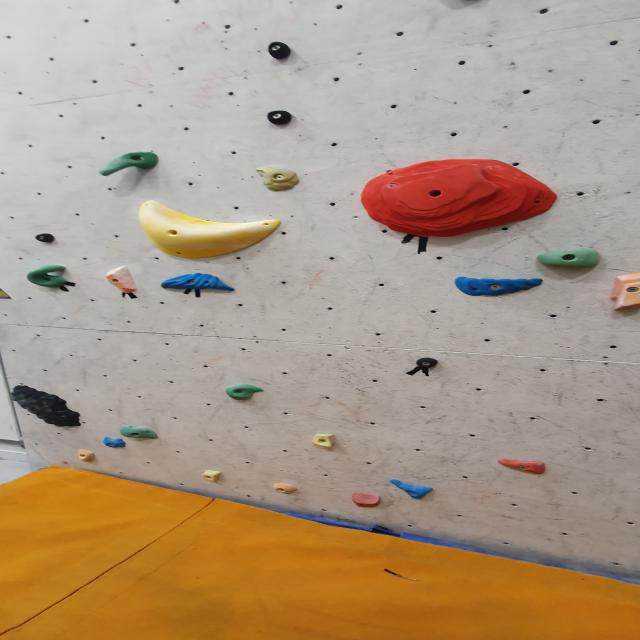Crimp: (356, 160, 565, 240), (452, 276, 548, 296), (158, 272, 238, 292), (253, 165, 304, 193), (389, 480, 435, 500), (494, 458, 550, 474), (194, 465, 232, 487), (272, 483, 300, 496), (76, 446, 98, 462), (101, 438, 127, 450)
Jug: (10, 386, 86, 430), (96, 152, 163, 177), (534, 247, 603, 271), (23, 265, 72, 291), (223, 384, 266, 402), (118, 425, 162, 440), (310, 434, 338, 449)
Pinch: (604, 272, 640, 316), (100, 262, 140, 298), (265, 42, 297, 63), (264, 110, 297, 127), (415, 357, 443, 369), (34, 234, 60, 245)
Sloper: (136, 198, 287, 264), (349, 492, 382, 507)
